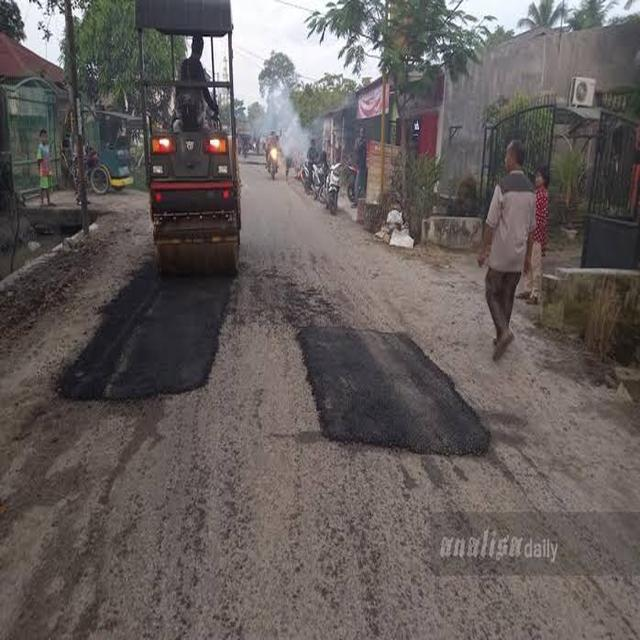Sambungan: (297, 330, 490, 456), (58, 266, 242, 398)
